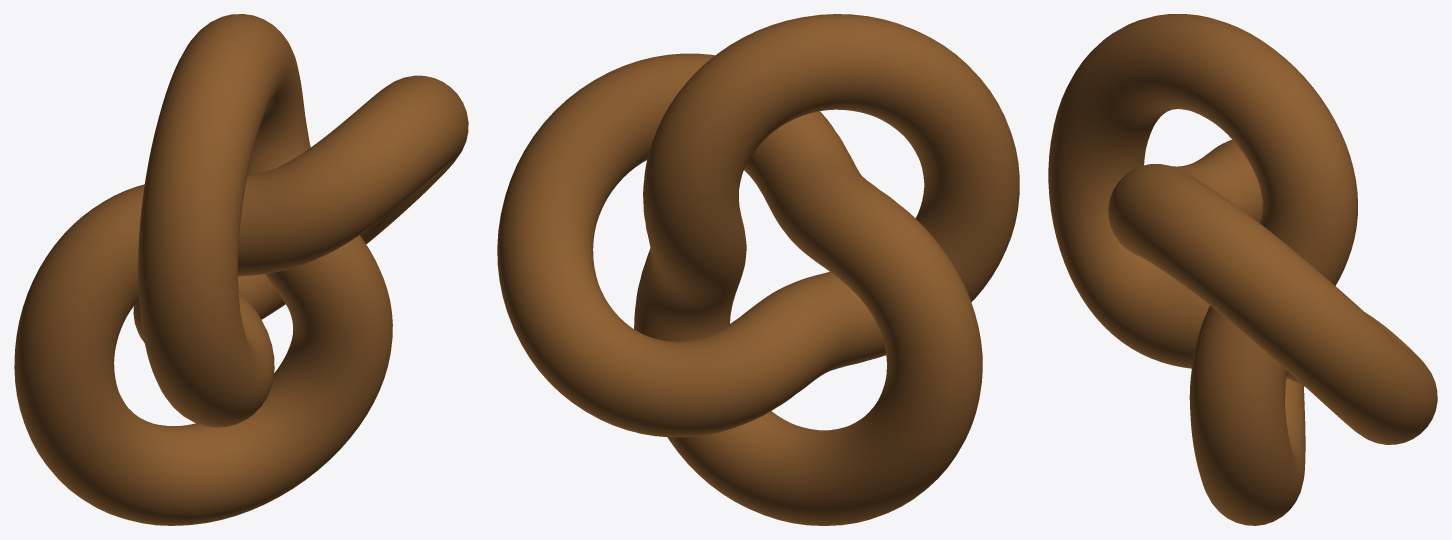
File: sc-bronze-knot.glb
3 views of the same model, side by side, from view 1: azimuth 30°, elevation 25°; view 2: azimuth 150°, elevation 25°; view 3: azimuth 270°, elevation 25° (orthographic). The views are drawn at different scales.
Parts seen in each view (by area): view 1: sc_bronze_knot; view 2: sc_bronze_knot; view 3: sc_bronze_knot.
Boxes of the visible parts, x1,y1,x2,y2 form: sc_bronze_knot: (14,14,468,525); sc_bronze_knot: (497,14,1019,525); sc_bronze_knot: (1048,14,1437,525).
Size of the model in its own units: 0.3813 by 0.404 by 0.2969.
